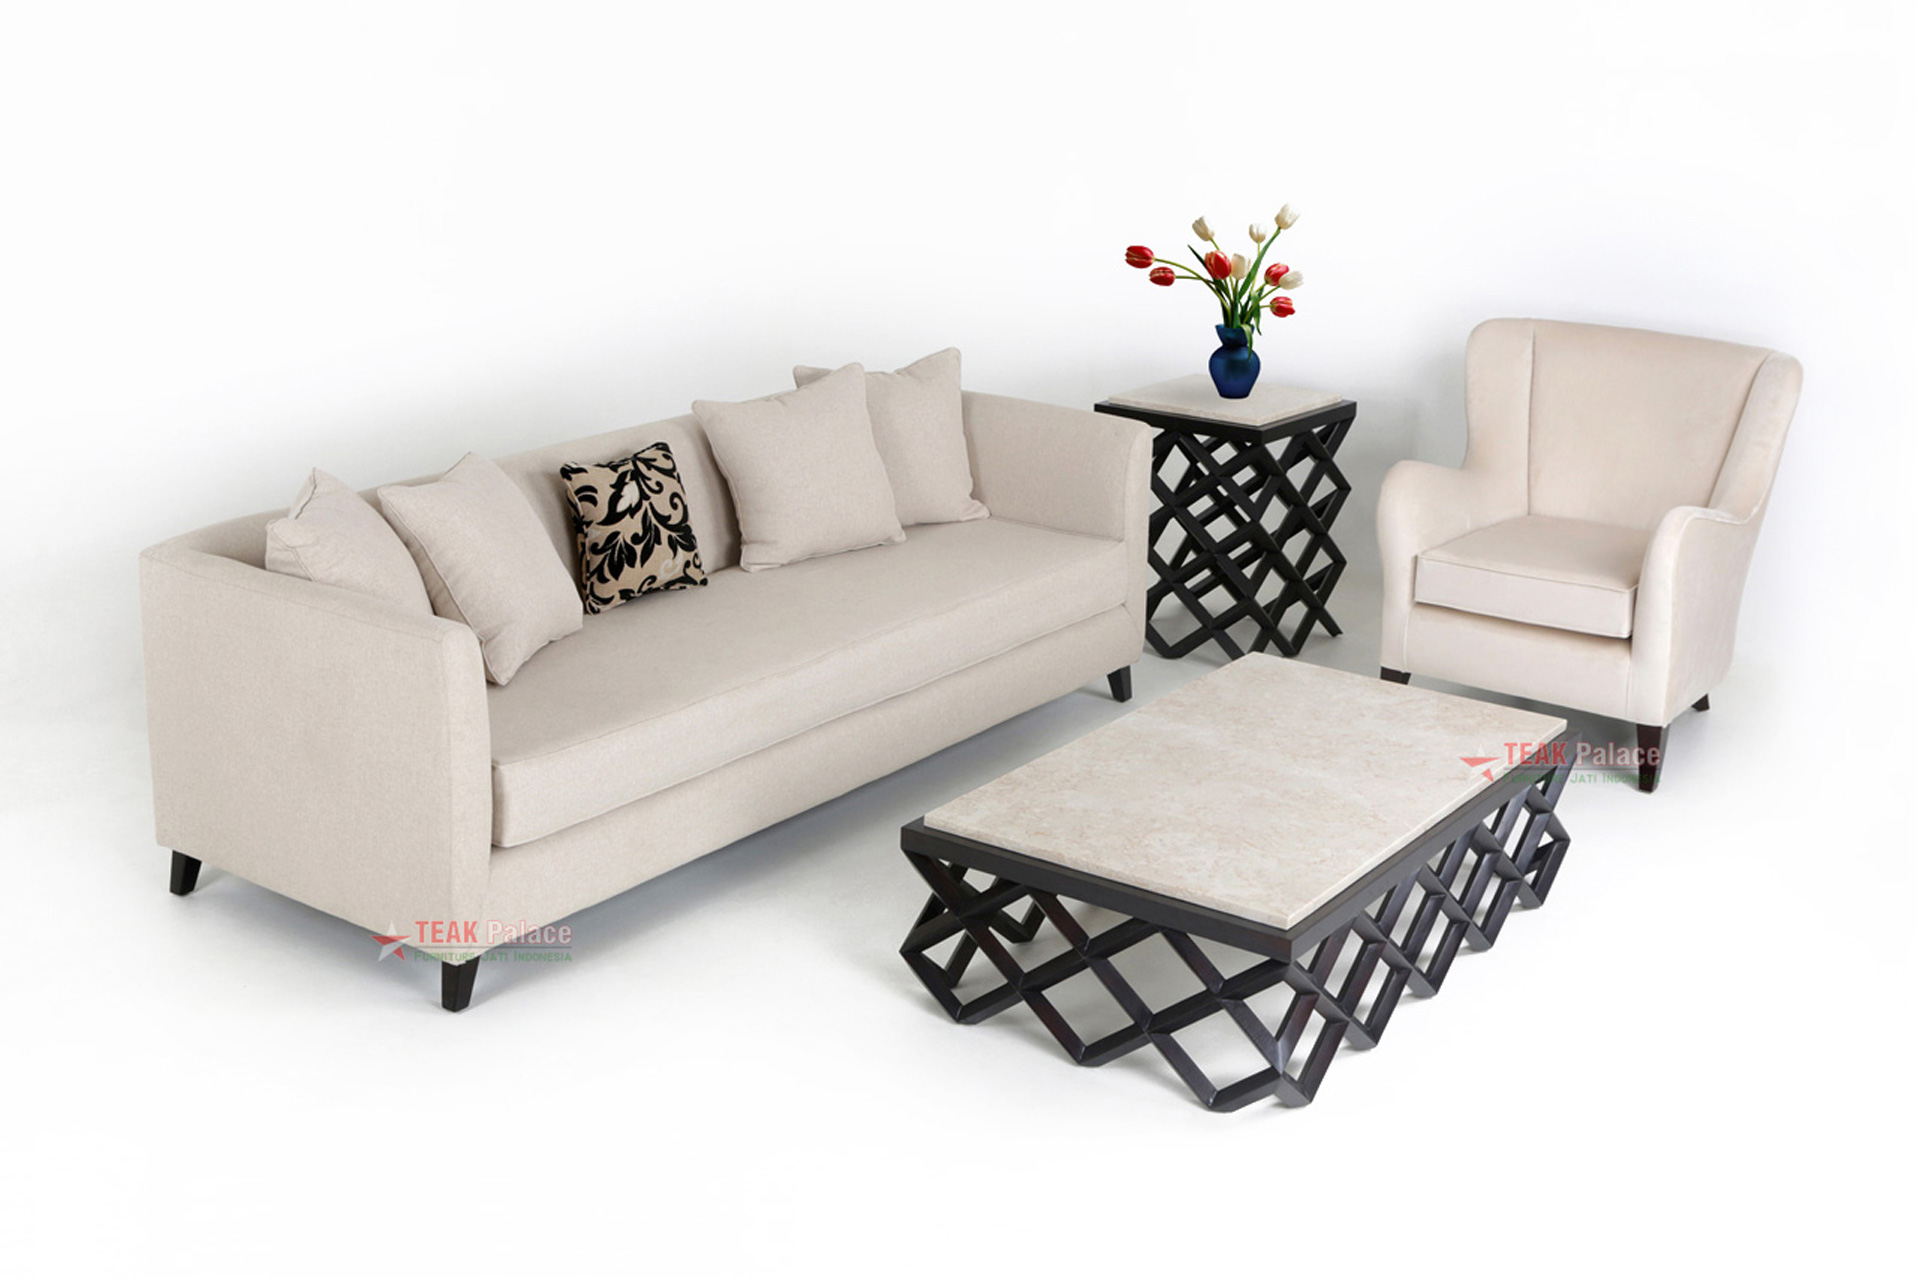bantal: (407, 466, 578, 658), (707, 389, 899, 555), (573, 454, 702, 598), (880, 367, 993, 531)
kursi: (1382, 315, 1793, 796)
meja: (907, 640, 1578, 1108)
sova: (136, 341, 1152, 976)
tanaman: (1118, 201, 1324, 397)
